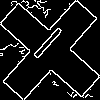I: (25, 25, 65, 68)
